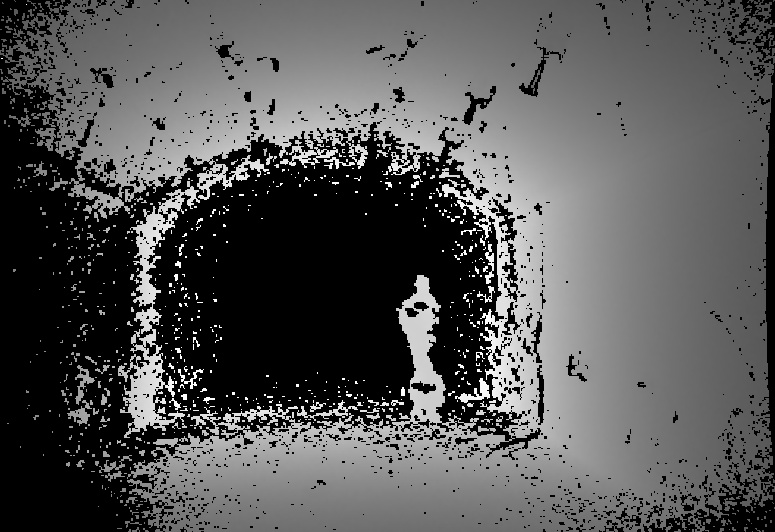person: (398, 273, 446, 424)
